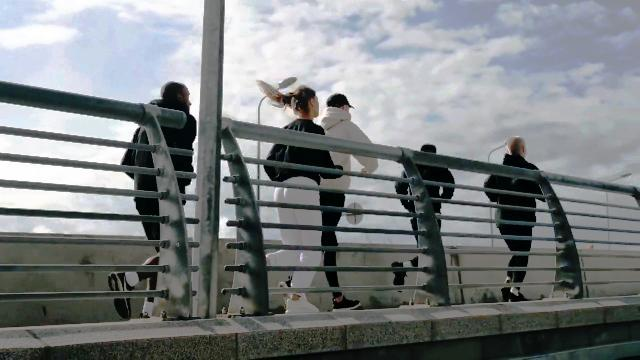berlari: (109, 83, 197, 323), (252, 80, 326, 328), (309, 90, 381, 318), (390, 140, 452, 312), (486, 140, 544, 308)
